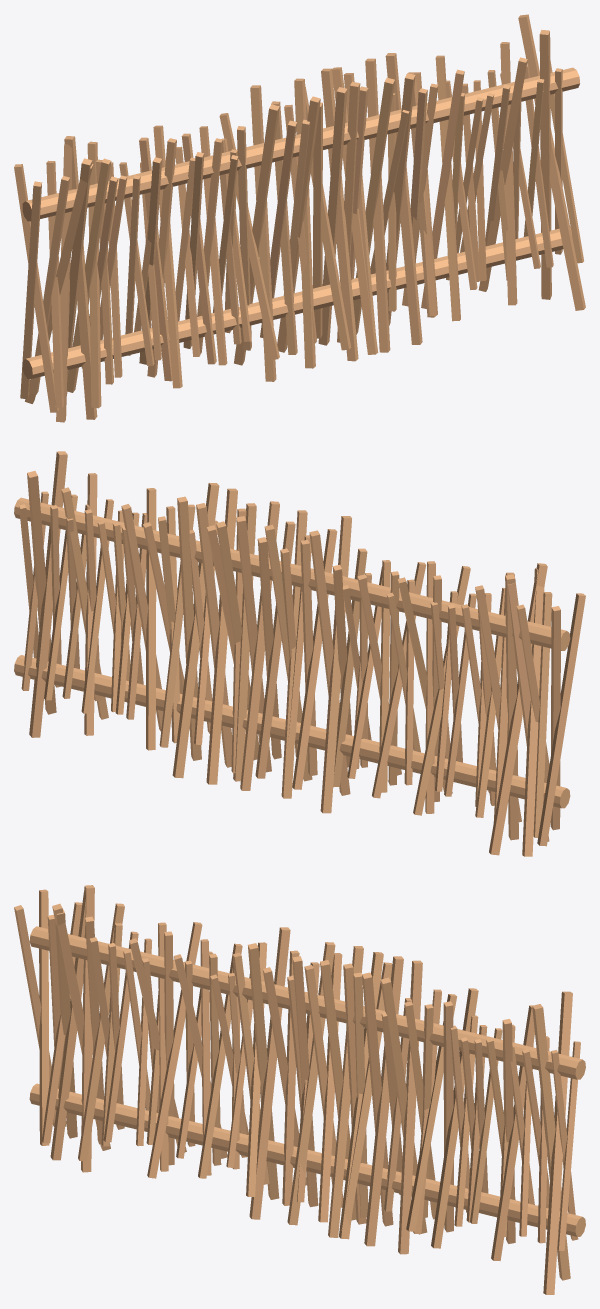
Rendered from FenceSimple.fbx.
3 views of the same model, one above another, from view 1: azimuth 30°, elevation 25°; view 2: azimuth 150°, elevation 25°; view 3: azimuth 330°, elevation 25° (orthographic).
Visible parts, largest first — view 1: Cloner_1; view 2: Cloner_1; view 3: Cloner_1.
Part boxes in pixels (x1,y1,x2,y2): Cloner_1: [14, 14, 585, 422]; Cloner_1: [14, 451, 585, 856]; Cloner_1: [14, 885, 585, 1294].
Bounding box in the file's own units: 491 × 236 × 67.46.
